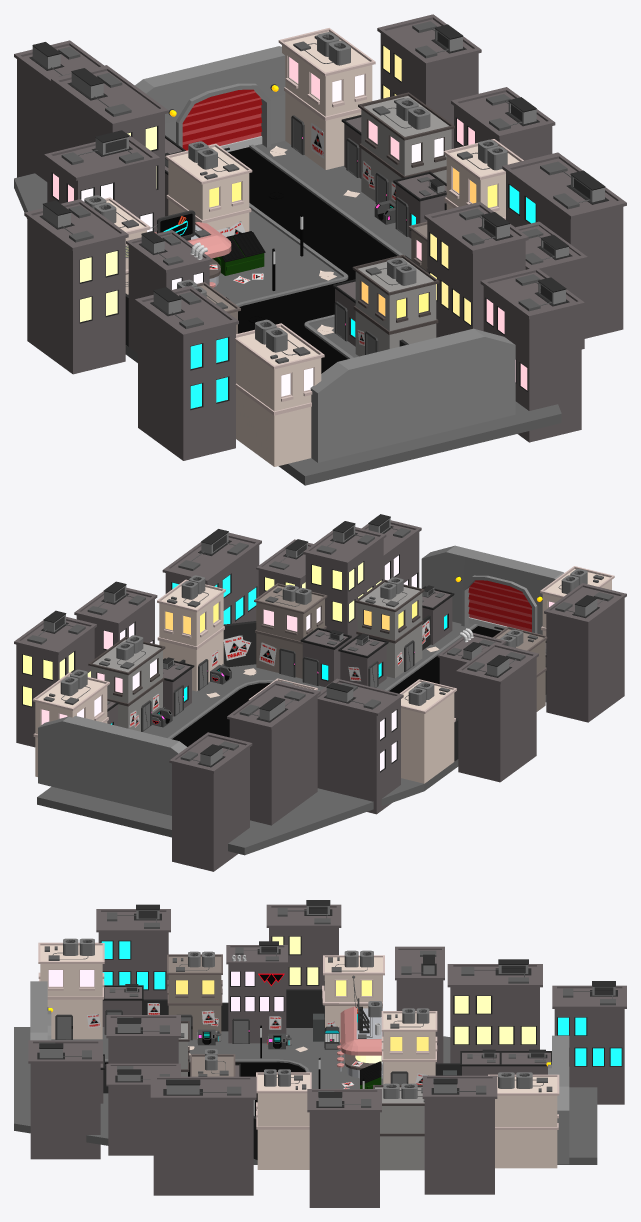
File: RoboKillerVREnvironmentTakeTwo(Final).fbx
The picture shows the model from 3 angles, top to bottom: view 1: azimuth 30°, elevation 25°; view 2: azimuth 150°, elevation 25°; view 3: azimuth 270°, elevation 25°; orthographic projection. The views are drawn at different scales.
Visible parts, largest first — view 1: ground; view 2: ground; view 3: ground.
Boxes of the visible parts, box(x1,y1,x2,y2) form: ground: box(14, 14, 626, 485); ground: box(14, 514, 626, 871); ground: box(14, 900, 626, 1207).
Size of the model in its own units: 2347 by 744 by 3167.
